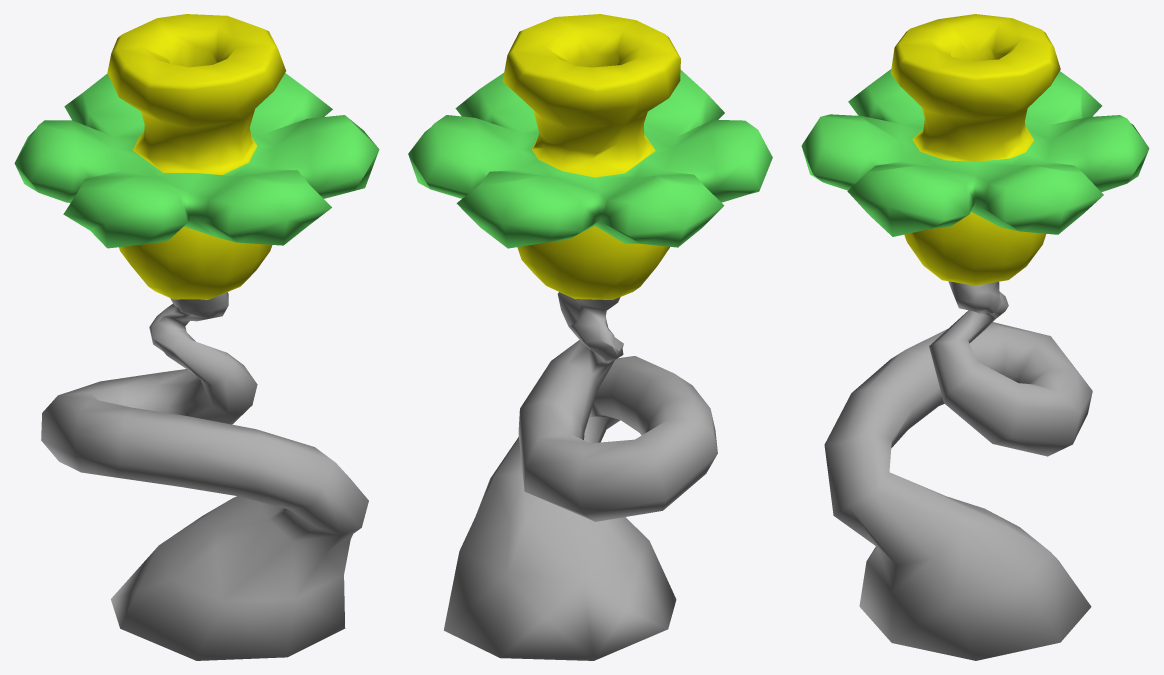
The model's file is the tiny stuff flower.fbx.
3 views of the same model, side by side, from view 1: azimuth 30°, elevation 25°; view 2: azimuth 150°, elevation 25°; view 3: azimuth 270°, elevation 25° (orthographic). The views are drawn at different scales.
Parts seen in each view (by area): view 1: polySurface2, polySurface1; view 2: polySurface2, polySurface1; view 3: polySurface1, polySurface2.
Boxes of the visible parts, x1,y1,x2,y2 form: polySurface2: (14,14,379,299); polySurface1: (41,292,368,660); polySurface2: (408,14,772,299); polySurface1: (443,292,717,660); polySurface1: (824,281,1092,660); polySurface2: (801,14,1149,285).
Bounding box in the file's own units: 400 × 418 × 735.
